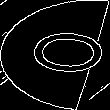O_E: (5, 29, 105, 81)
